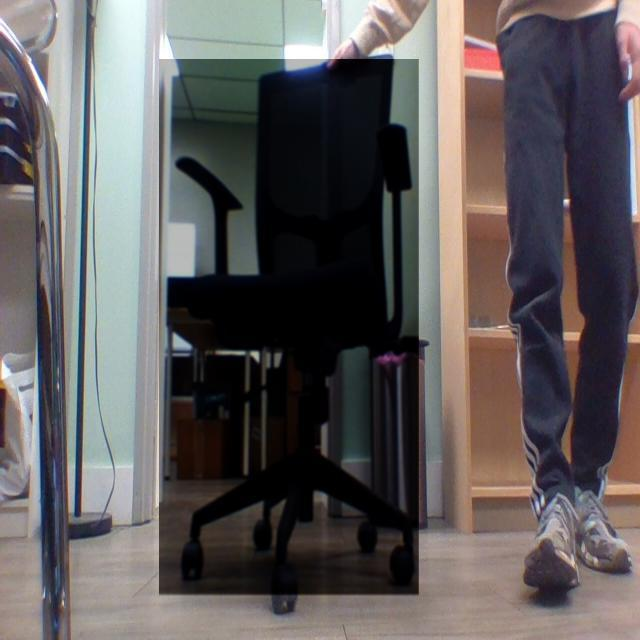chair: (160, 59, 420, 597)
